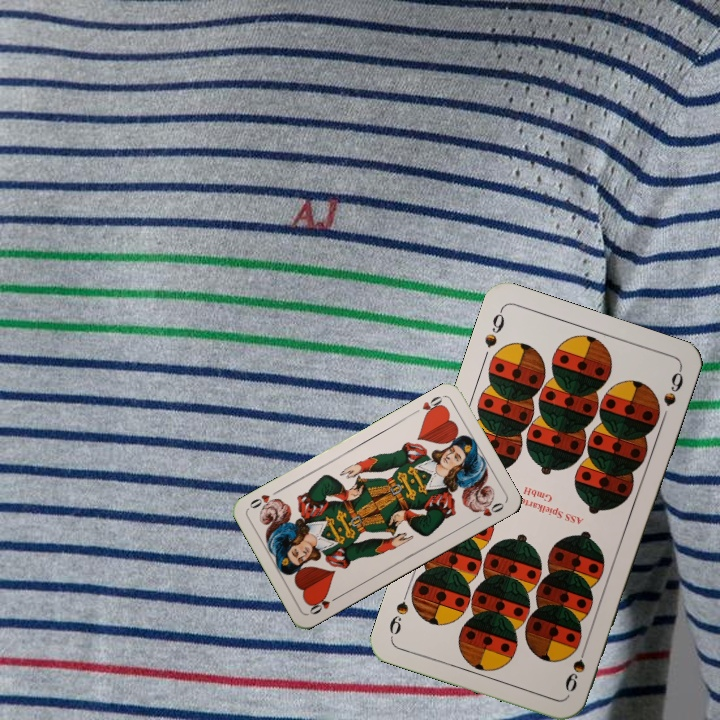HO: (409, 392, 447, 420), (305, 592, 343, 617)
S9: (561, 639, 591, 694), (480, 305, 507, 350)
